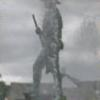Statue: (24, 7, 75, 98)
